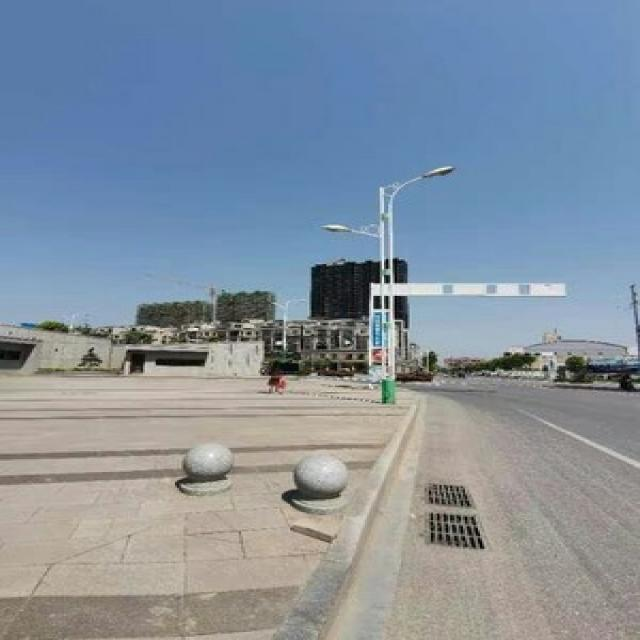spherical_roadblock: (284, 451, 350, 514), (172, 440, 235, 494)
